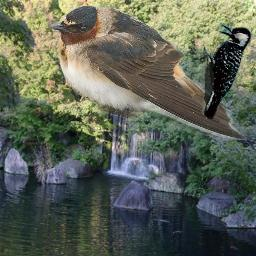Swallow: (50, 5, 247, 140)
Woodpecker: (197, 23, 253, 119)
